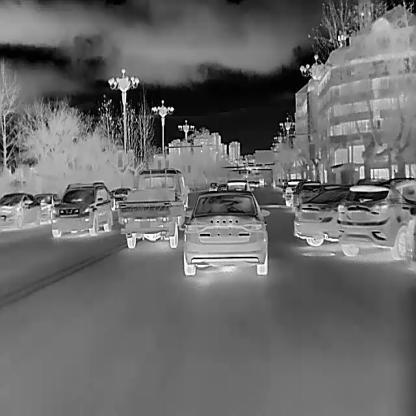bus: (258, 177, 263, 185)
car: (183, 188, 267, 274), (336, 176, 415, 257), (293, 185, 353, 246), (50, 179, 112, 236), (0, 190, 41, 230), (33, 192, 61, 224), (293, 180, 321, 209), (284, 178, 305, 206), (113, 187, 130, 208), (226, 178, 250, 191), (208, 180, 218, 190), (253, 182, 257, 186)
truck: (116, 166, 188, 248)
